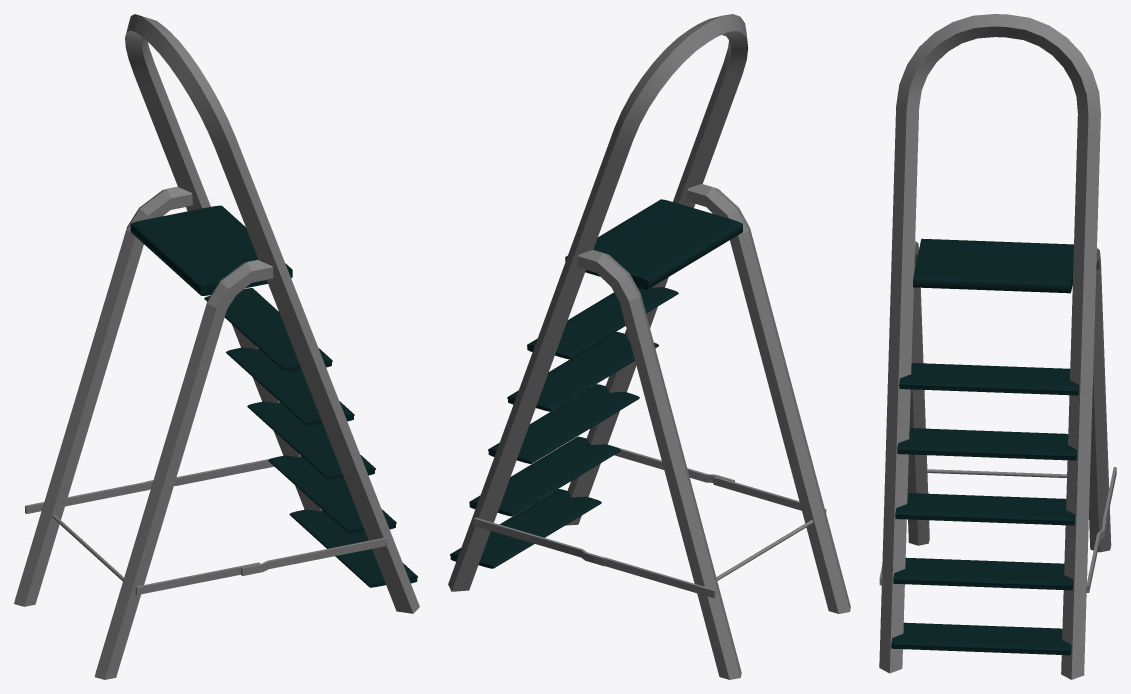
The model's file is step ladder.fbx.
3 renders of one model, left to right at view 1: azimuth 30°, elevation 25°; view 2: azimuth 150°, elevation 25°; view 3: azimuth 270°, elevation 25°, orthographic. The views are drawn at different scales.
Parts seen in each view (by area): view 1: Line014; view 2: Line014; view 3: Line014.
Boxes of the visible parts, bbox=[...] form: Line014: bbox=[14, 14, 419, 679]; Line014: bbox=[448, 14, 850, 679]; Line014: bbox=[879, 14, 1116, 679].
Bounding box in the file's own units: 118 × 208 × 78.77.
